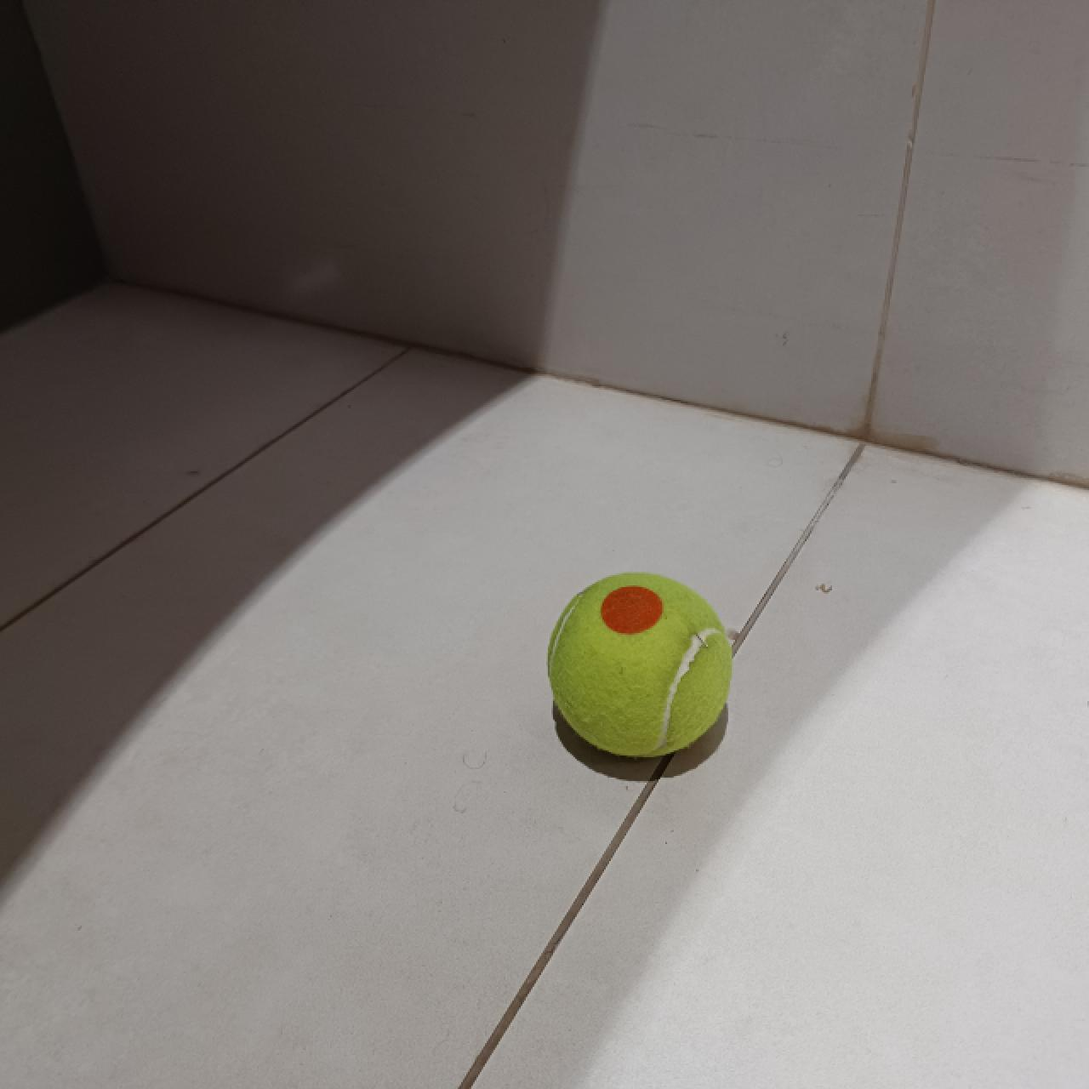tennis-ball: (544, 569, 732, 761)
